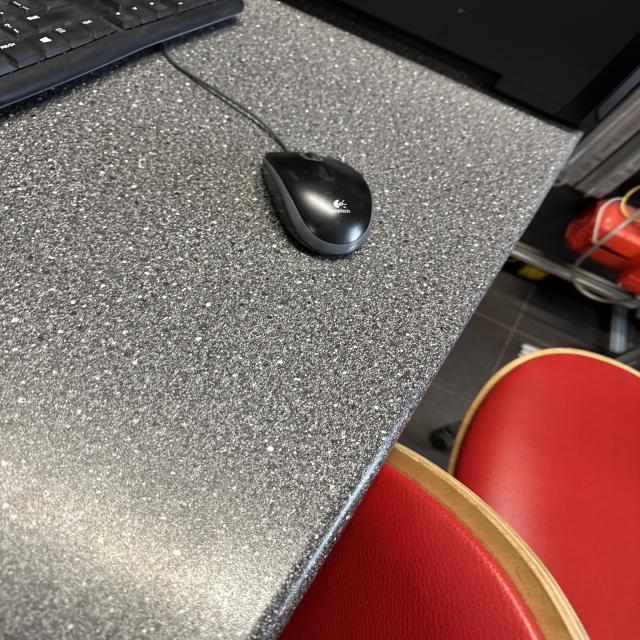mysz: (250, 138, 385, 266)
